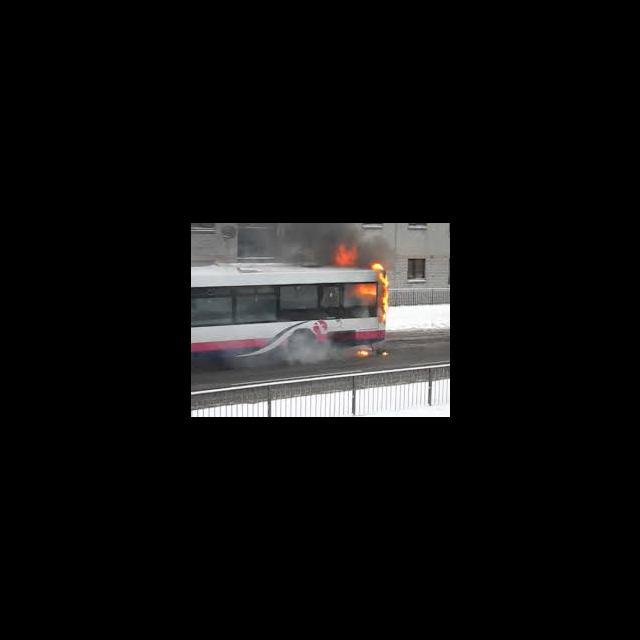Fire: (373, 261, 393, 322), (332, 244, 360, 266), (356, 282, 377, 296), (354, 348, 369, 358), (382, 350, 388, 356)
Smoke: (256, 223, 331, 264), (278, 334, 345, 362)
